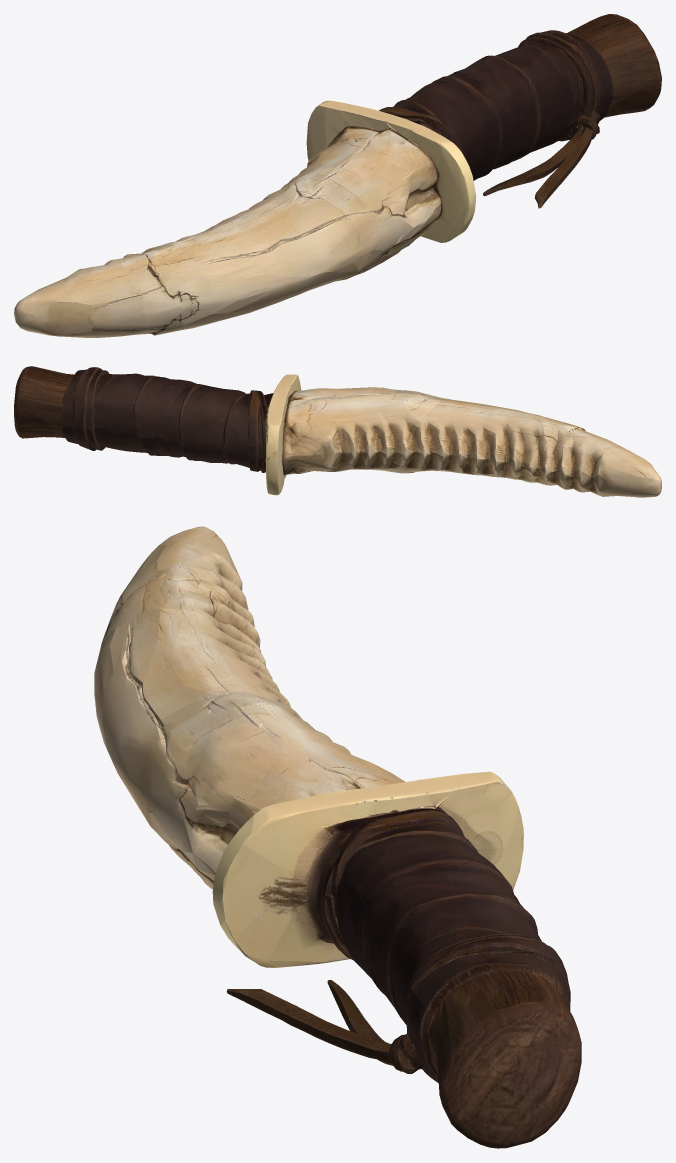
File: trexdagger3d.glb
3 renders of one model, top to bottom at view 1: azimuth 30°, elevation 25°; view 2: azimuth 150°, elevation 25°; view 3: azimuth 270°, elevation 25°, orthographic. The views are drawn at different scales.
Size of the model in its own units: 1.9 by 0.2728 by 0.7073.
1 material, 1 textured.
